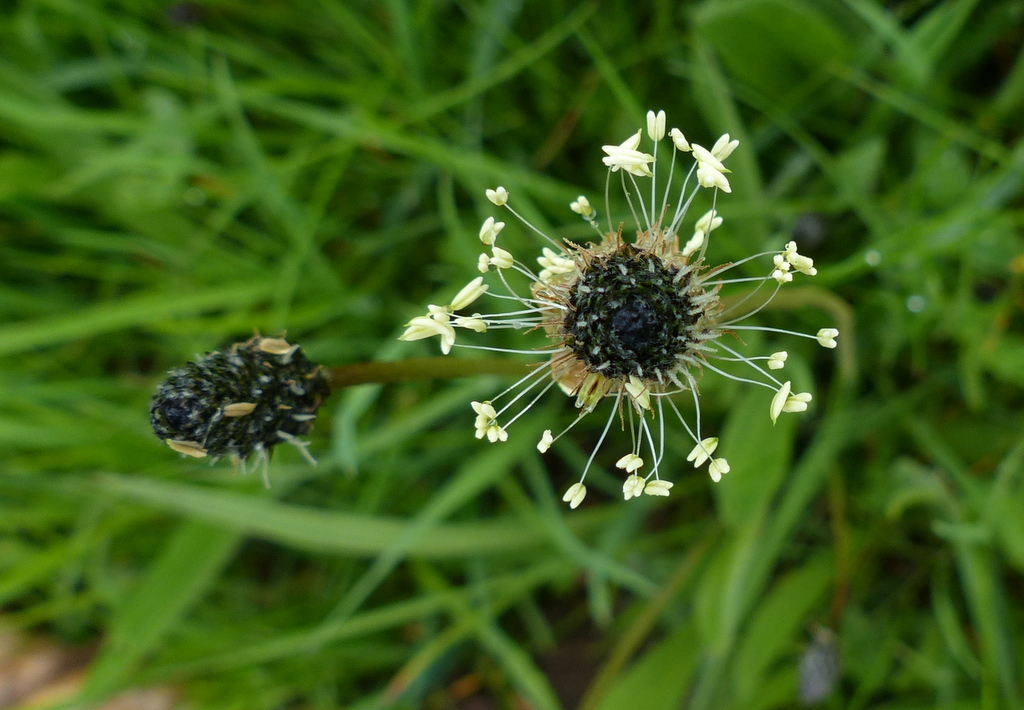buckhorn plantain: (441, 98, 848, 506)
